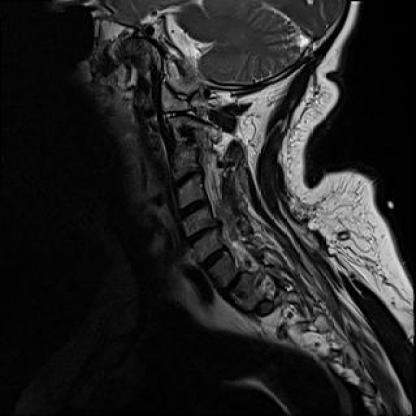Disc Protrusionrotation: (214, 276, 250, 293), (185, 226, 220, 243), (195, 251, 232, 266), (176, 201, 210, 217)
Osteophytesrotation: (195, 251, 232, 266), (176, 201, 210, 217)
